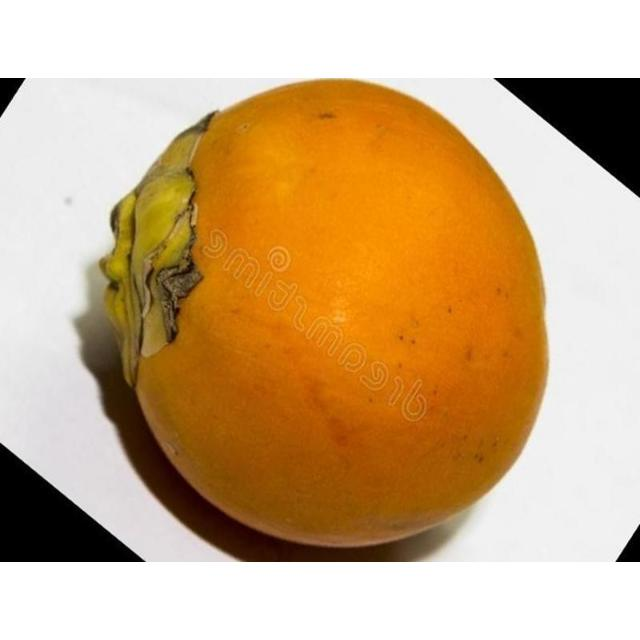good: (97, 80, 551, 552)
